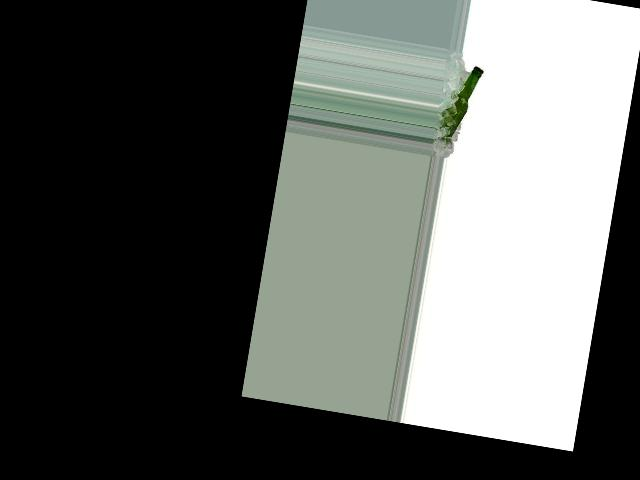beer: (442, 62, 483, 146)
